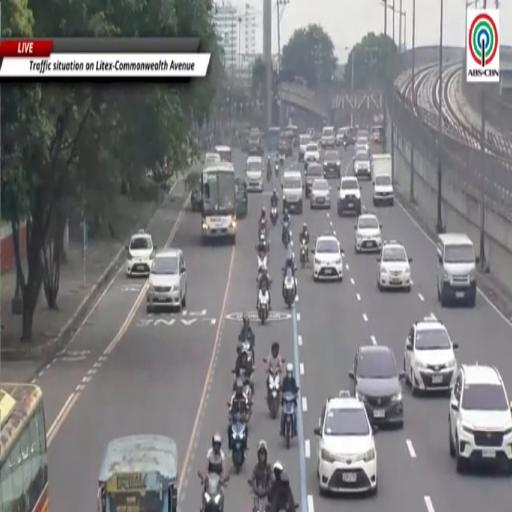bus: (0, 383, 48, 511), (202, 163, 236, 244), (266, 126, 281, 152), (215, 146, 232, 163)
car: (449, 364, 511, 473), (314, 391, 377, 494), (349, 345, 405, 427), (404, 316, 458, 395), (437, 233, 479, 307), (146, 248, 187, 313), (377, 240, 411, 292), (312, 235, 344, 281), (126, 230, 155, 277), (355, 214, 382, 252), (337, 176, 362, 216), (282, 169, 303, 214), (373, 172, 393, 205), (305, 163, 323, 198), (246, 155, 263, 191), (310, 179, 330, 209), (323, 150, 341, 179), (353, 151, 371, 180), (304, 142, 320, 168), (299, 133, 311, 162), (321, 126, 335, 148), (336, 127, 349, 146), (204, 153, 220, 167), (355, 136, 369, 151), (372, 125, 383, 143), (357, 128, 369, 138)
jeepney: (98, 435, 178, 511), (186, 169, 202, 212), (236, 179, 248, 218)
motorcycle: (198, 472, 228, 511), (231, 413, 246, 473), (282, 393, 296, 449), (239, 368, 254, 415), (248, 479, 269, 511), (267, 370, 280, 419), (239, 341, 253, 377), (283, 269, 295, 308), (258, 290, 269, 325), (300, 239, 308, 268), (282, 222, 290, 248), (258, 254, 267, 277), (270, 206, 278, 226), (259, 218, 266, 237), (267, 167, 271, 181), (267, 158, 271, 172), (280, 154, 284, 166), (275, 162, 279, 174), (343, 140, 347, 149)
truck: (372, 154, 393, 205)
